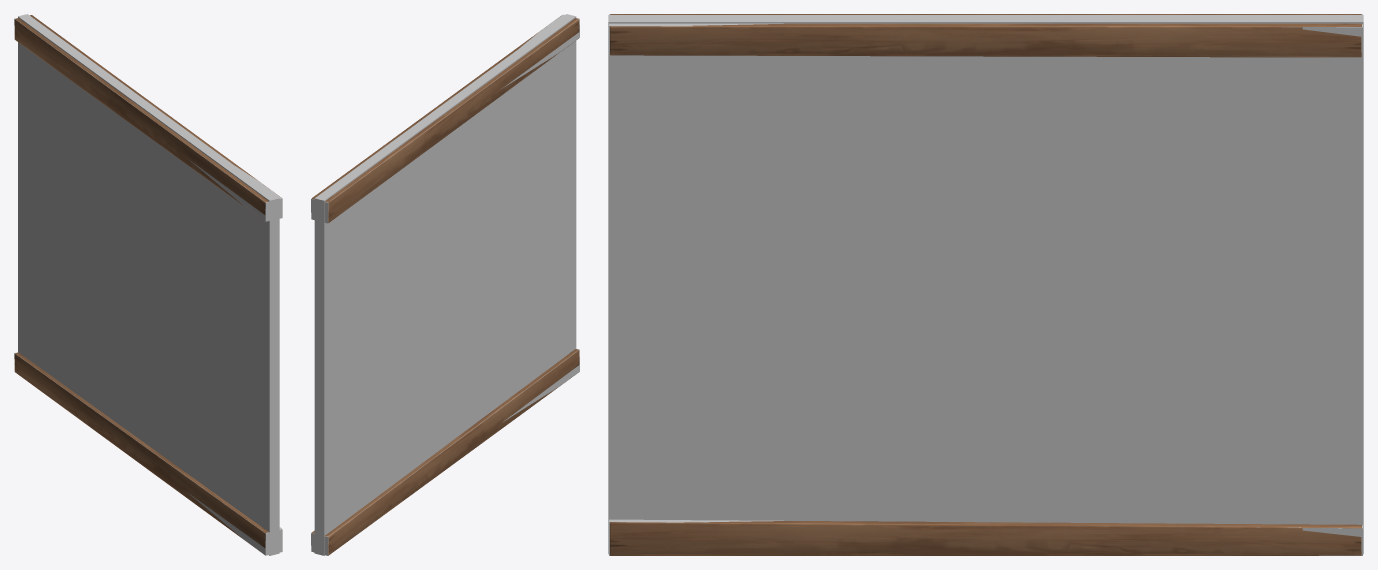
File: SM_Hangar01W_3.fbx
The picture shows the model from 3 angles, left to right: view 1: azimuth 30°, elevation 25°; view 2: azimuth 150°, elevation 25°; view 3: azimuth 270°, elevation 25°; orthographic projection. The views are drawn at different scales.
Parts seen in each view (by area): view 1: SM_Hangar01W_3_ConvexHulls, SM_Hangar01W_3; view 2: SM_Hangar01W_3_ConvexHulls, SM_Hangar01W_3; view 3: SM_Hangar01W_3_ConvexHulls, SM_Hangar01W_3.
Boxes of the visible parts, bbox=[...] form: SM_Hangar01W_3_ConvexHulls: bbox=[14, 14, 282, 555]; SM_Hangar01W_3: bbox=[14, 15, 281, 551]; SM_Hangar01W_3_ConvexHulls: bbox=[311, 14, 579, 555]; SM_Hangar01W_3: bbox=[311, 16, 579, 555]; SM_Hangar01W_3_ConvexHulls: bbox=[608, 14, 1363, 555]; SM_Hangar01W_3: bbox=[610, 14, 1361, 555].
Bounding box in the file's own units: 18 × 452 × 351.
3 materials, 2 textured.
